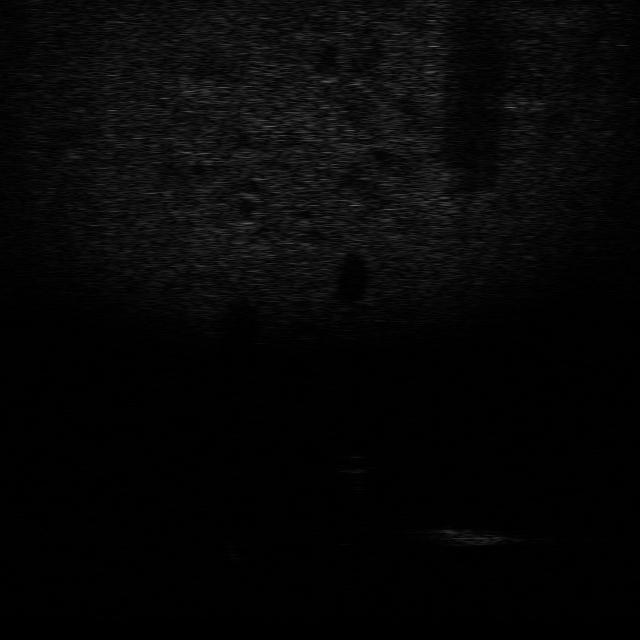ball: (331, 448, 375, 476)
metal bucket: (408, 522, 528, 553)
tyre: (221, 532, 259, 568)
